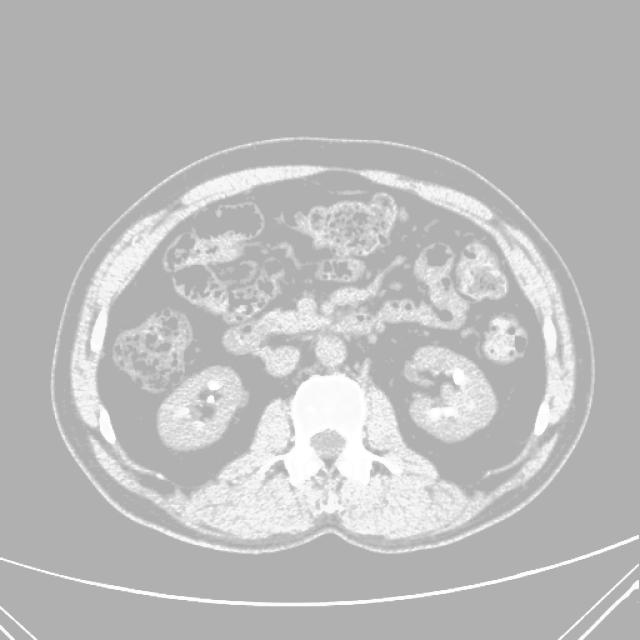STONE: (136, 314, 496, 452)
